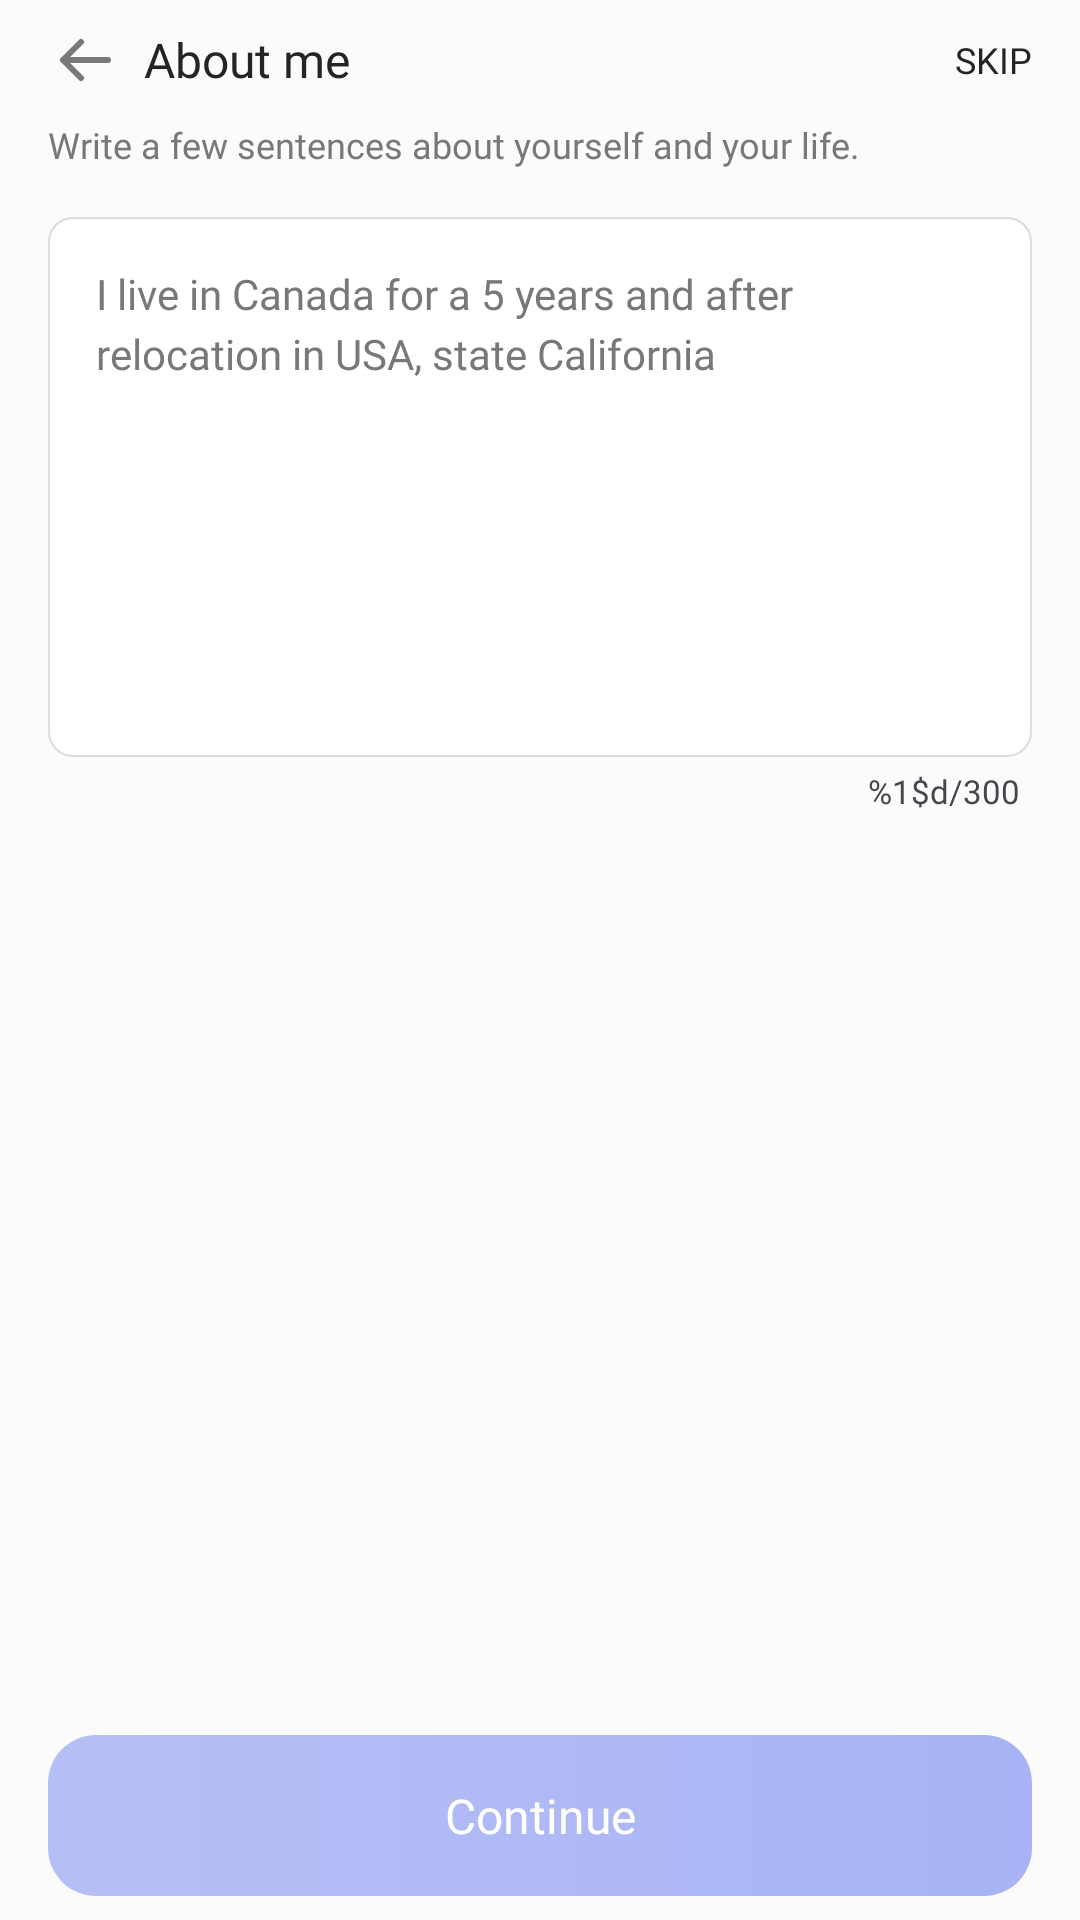

Icons on this 1080px×1920px Android screen, each with its box as box(x1, y1, x2, y2):
Back: box(60, 39, 111, 81)
